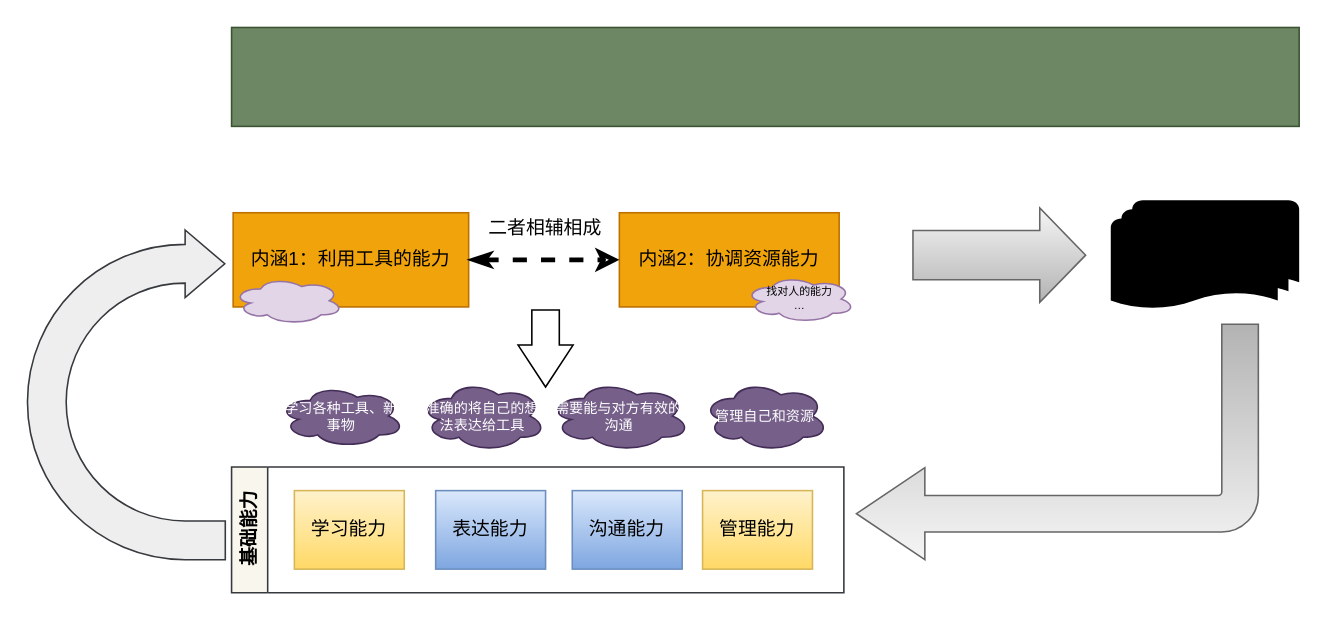
Image size: 1327x620. Some labels were removed from this diagram. Each missing label, with the centre of its shape:
“偷懒”的能力 ——在AI时代，如何借力而成长: (x=764, y=76)
基础能力反哺内涵: (x=125, y=394)
提升效率: (x=998, y=254)
提升效率工具： AI: (x=287, y=300)
时间: (x=1204, y=254)
更多的时间来学习、接触新事物，提升基础能力，形成正向循环: (x=1056, y=441)
